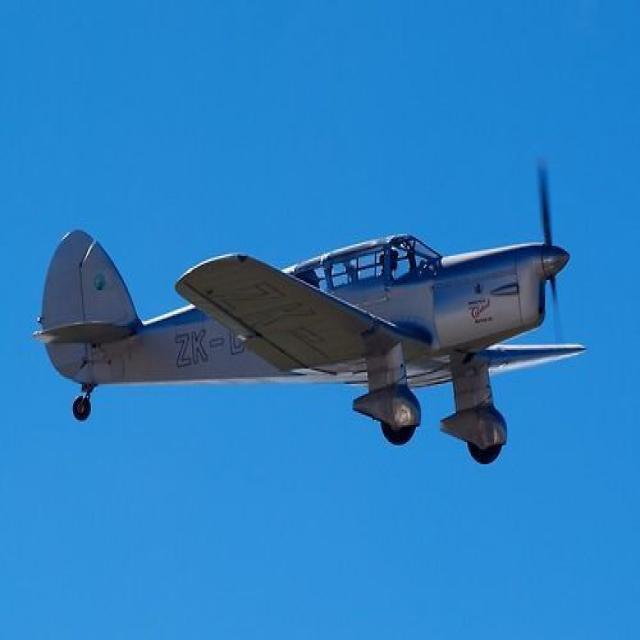iha: (35, 230, 585, 464)
